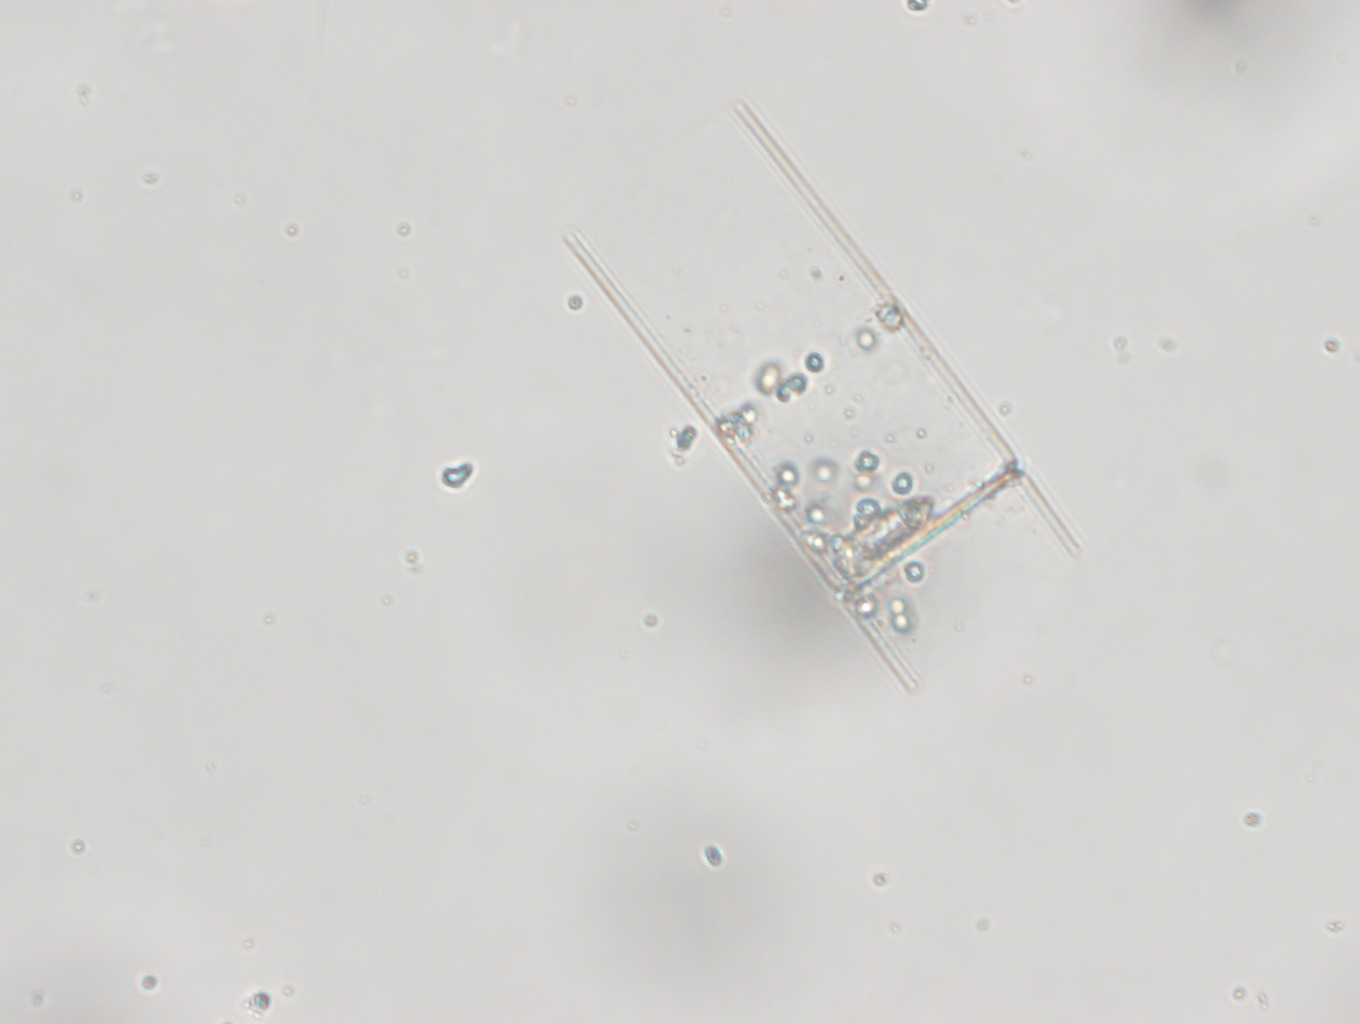guinardia flaccida: (566, 100, 1091, 698)
